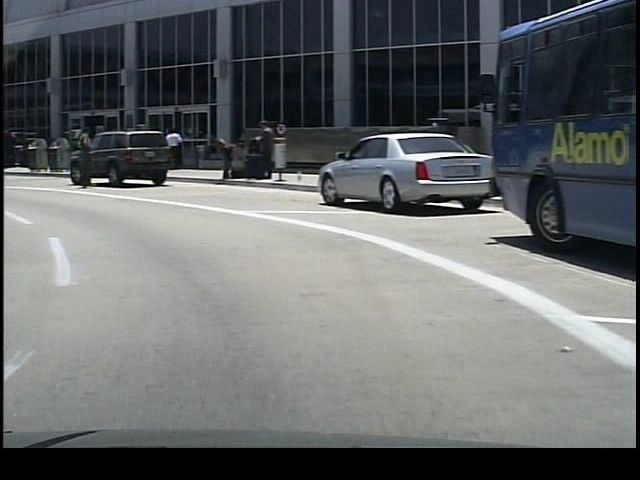person: (69, 117, 97, 196), (211, 131, 240, 185), (250, 120, 270, 182), (158, 127, 180, 171)
